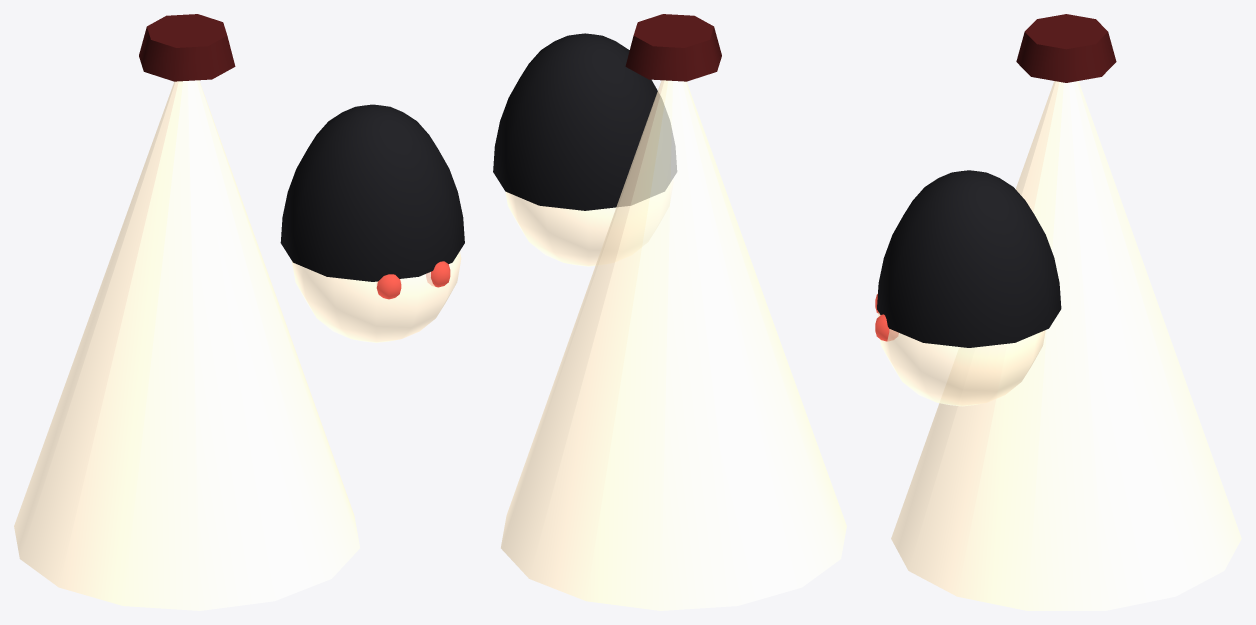
File: headless.glb
3 renders of one model, left to right at view 1: azimuth 30°, elevation 25°; view 2: azimuth 150°, elevation 25°; view 3: azimuth 270°, elevation 25°, orthographic.
Bounding box in the file's own units: 1.01 × 1.34 × 0.8779.
